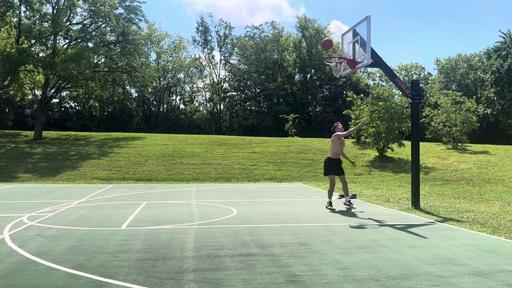ball: (320, 38, 332, 50)
human: (324, 117, 370, 212)
rim: (323, 56, 347, 78)
